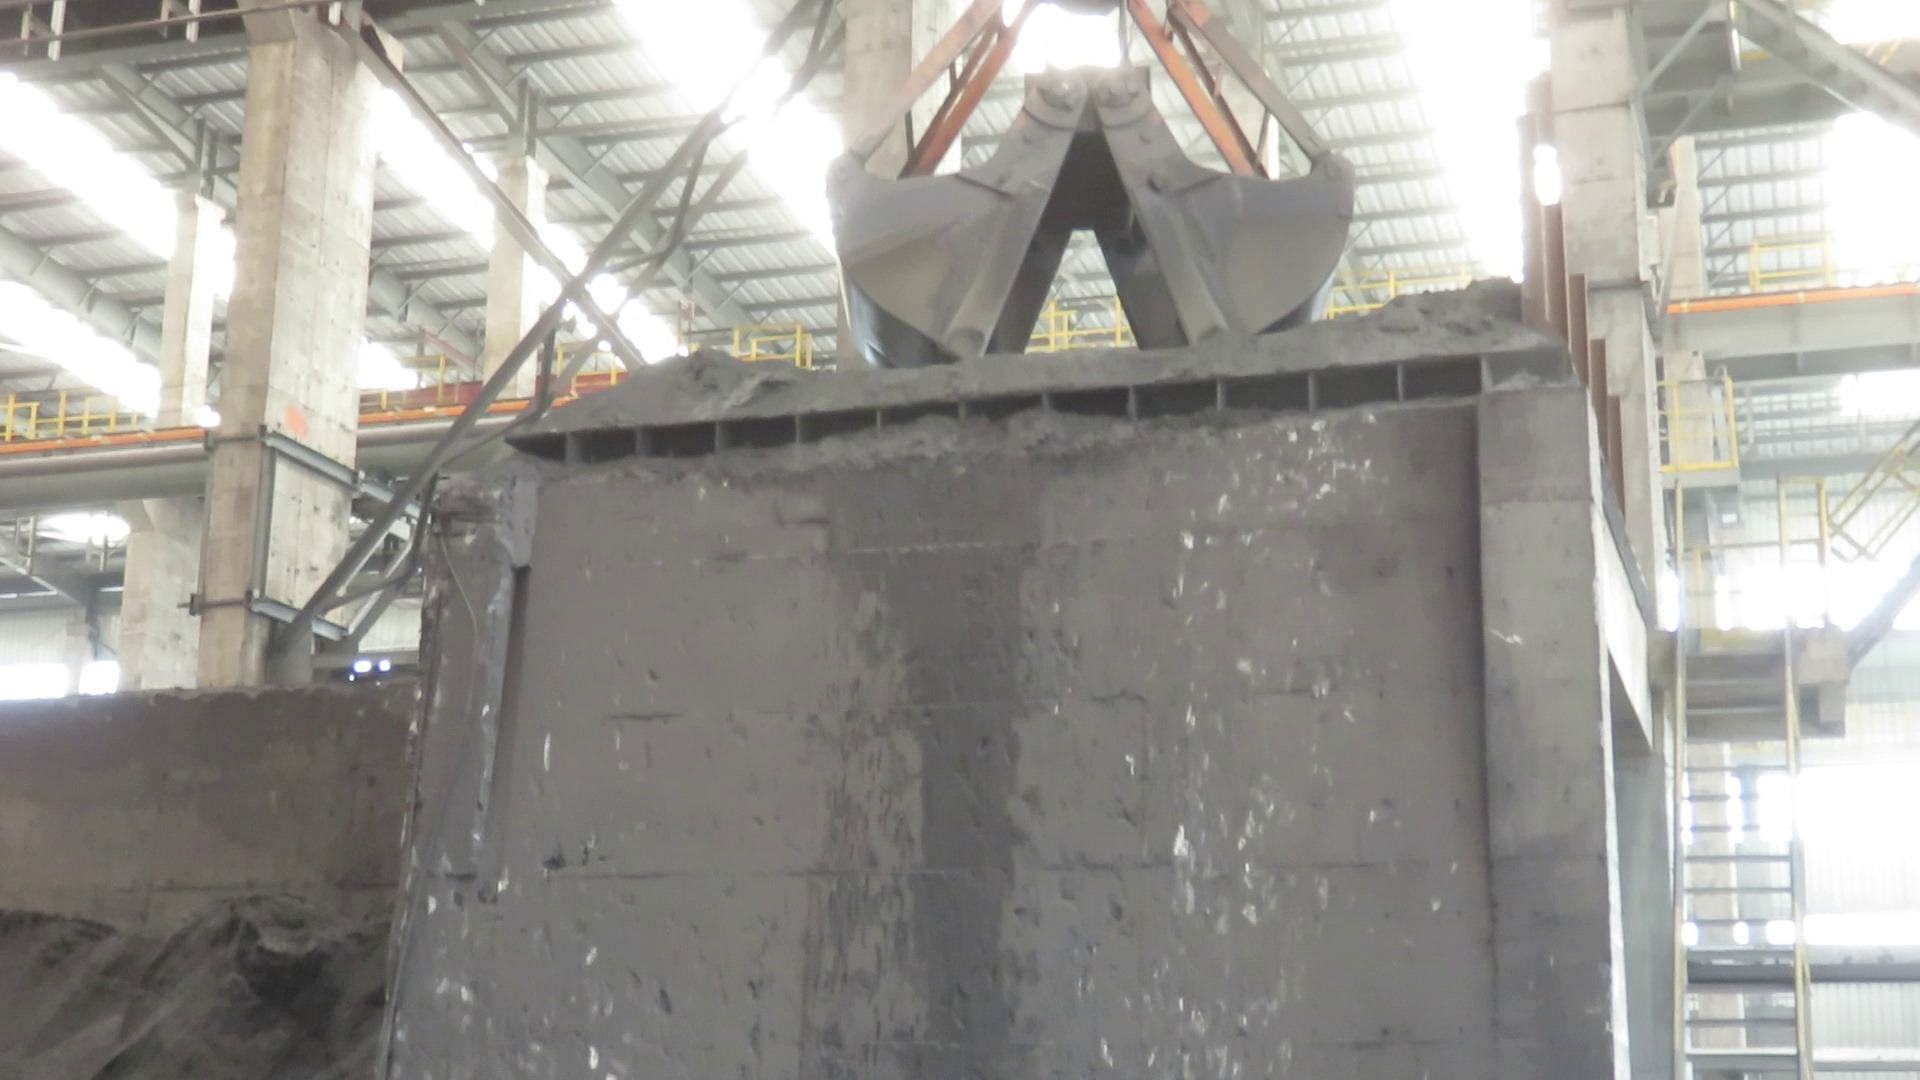grab: (815, 0, 1365, 376)
